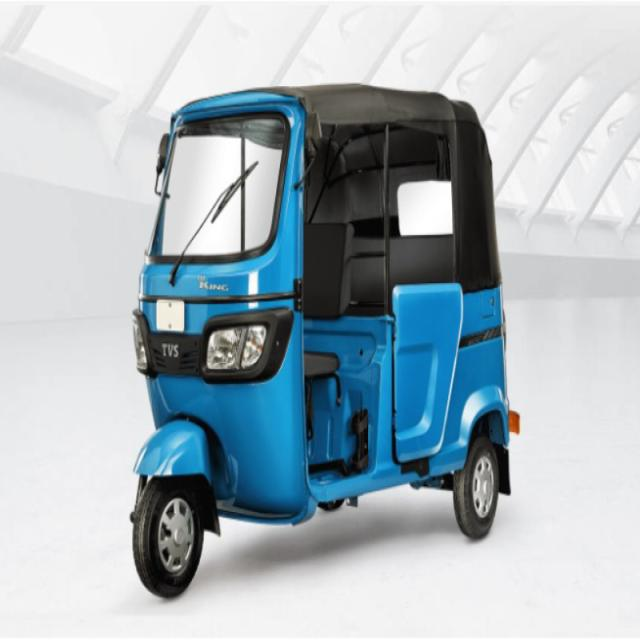autorickshaw: (131, 85, 511, 597)
